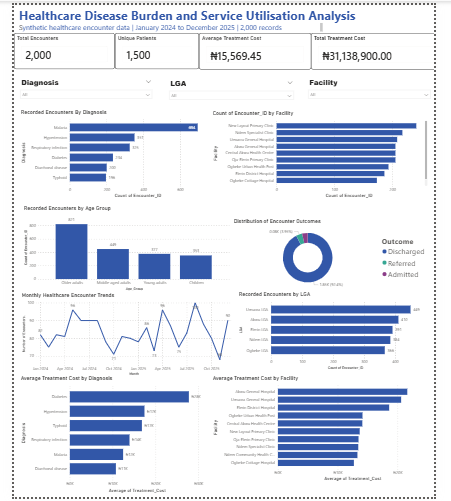

What the dashboard file says about the page in this screenshot:
{"tool":"powerbi","page":{"name":"Healthcare Overview","canvas":[1280,1500],"ordinal":0},"visuals":[{"type":"textbox","box":[10.6,0,1305.9,81.5],"z":0},{"type":"textbox","box":[10.2,48.3,936.6,36.6],"z":1000},{"type":"clusteredBarChart","title":"Recorded Encounters By Diagnosis","fields":{"Category":["patient_encounters.Diagnosis"],"Y":["CountNonNull(patient_encounters.Encounter_ID)"]},"box":[14.6,316,585.7,275.8],"z":2000},{"type":"clusteredColumnChart","title":"Recorded Encounters by Age Group","fields":{"Y":["CountNonNull(patient_encounters.Encounter_ID)"],"Category":["patient_encounters.Age_Group"]},"box":[25.6,608.9,638.2,264.8],"z":3000},{"type":"clusteredBarChart","title":"Recorded Encounters by LGA","fields":{"Category":["patient_encounters.LGA"],"Y":["CountNonNull(patient_encounters.Encounter_ID)"]},"box":[680.9,591.8,572.3,264.8],"z":4000},{"type":"lineChart","title":"Monthly Healthcare Encounter Trends","fields":{"Y":["CountNonNull(patient_encounters.Encounter_ID)"],"Category":["patient_encounters.Admission_Date.Variation.Date Hierarchy.Year","patient_encounters.Admission_Date.Variation.Date Hierarchy.Month"]},"box":[18.3,873.7,662.6,261.1],"z":5000},{"type":"clusteredBarChart","title":"Average Treatment Cost by Diagnosis","fields":{"Category":["patient_encounters.Diagnosis"],"Y":["Avg(patient_encounters.Treatment_Cost)"]},"box":[14.6,1127.5,585.7,363.6],"z":6000},{"type":"clusteredBarChart","title":"Average Treatment Cost by Facility","fields":{"Y":["Avg(patient_encounters.Treatment_Cost)"],"Category":["patient_encounters.Facility"]},"box":[600.3,1127.5,679.7,329.5],"z":7000},{"type":"donutChart","title":"Distribution of Encounter Outcomes","fields":{"Category":["patient_encounters.Outcome"],"Y":["CountNonNull(patient_encounters.Encounter_ID)"]},"box":[734.6,873.7,529.6,253.8],"z":8000},{"type":"cardVisual","title":"Total Encounters","fields":{"Data":["CountNonNull(patient_encounters.Encounter_ID)"]},"box":[0,86.8,307.4,110.3],"z":9000},{"type":"cardVisual","title":"Unique Patients","fields":{"Data":["Count(patient_encounters.Patient_ID)"]},"box":[307.4,86.8,256,110.3],"z":10000},{"type":"cardVisual","title":"Average Treatment Cost","fields":{"Data":["Avg(patient_encounters.Treatment_Cost)"]},"box":[563.7,86.6,341.7,111],"z":11000},{"type":"cardVisual","title":"Total Treatment Cost","fields":{"Data":["Sum(patient_encounters.Treatment_Cost)"]},"box":[905.4,86.6,561.3,111],"z":12000},{"type":"slicer","fields":{"Values":["patient_encounters.LGA"]},"box":[463.8,219.6,399.5,98.5],"z":13000},{"type":"slicer","fields":{"Values":["patient_encounters.Diagnosis"]},"box":[9.8,217.2,422.2,83],"z":14000},{"type":"slicer","fields":{"Values":["patient_encounters.Facility"]},"box":[886.9,217.4,393.1,101.8],"z":15000}]}

Visuals, with their boxes on the page's 1280x1500 design canvas (x1, y1, x2, y2). These are canvas units, not pixel positions in the 451x501 screenshot, which may show the page scaled, cropped or inside an application window:
textbox: (11,0,1316,82)
textbox: (10,48,947,85)
"Recorded Encounters By Diagnosis" clusteredBarChart: (15,316,600,592)
"Recorded Encounters by Age Group" clusteredColumnChart: (26,609,664,874)
"Recorded Encounters by LGA" clusteredBarChart: (681,592,1253,857)
"Monthly Healthcare Encounter Trends" lineChart: (18,874,681,1135)
"Average Treatment Cost by Diagnosis" clusteredBarChart: (15,1128,600,1491)
"Average Treatment Cost by Facility" clusteredBarChart: (600,1128,1280,1457)
"Distribution of Encounter Outcomes" donutChart: (735,874,1264,1128)
"Total Encounters" cardVisual: (0,87,307,197)
"Unique Patients" cardVisual: (307,87,563,197)
"Average Treatment Cost" cardVisual: (564,87,905,198)
"Total Treatment Cost" cardVisual: (905,87,1467,198)
slicer - patient_encounters.LGA: (464,220,863,318)
slicer - patient_encounters.Diagnosis: (10,217,432,300)
slicer - patient_encounters.Facility: (887,217,1280,319)
